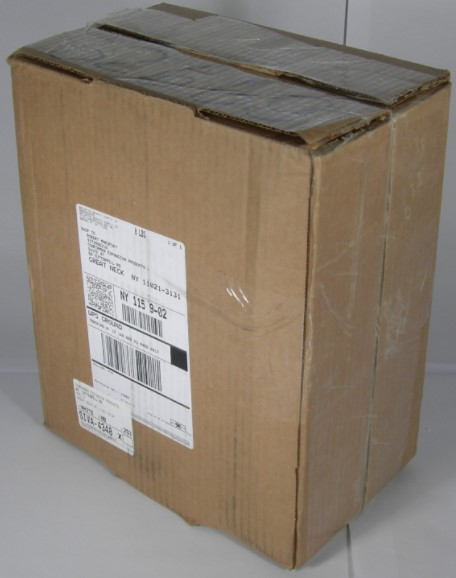stock: (17, 5, 446, 563)
